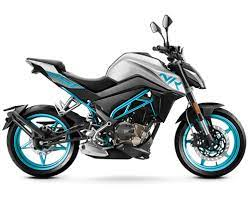Motorbike: (3, 15, 246, 177)
